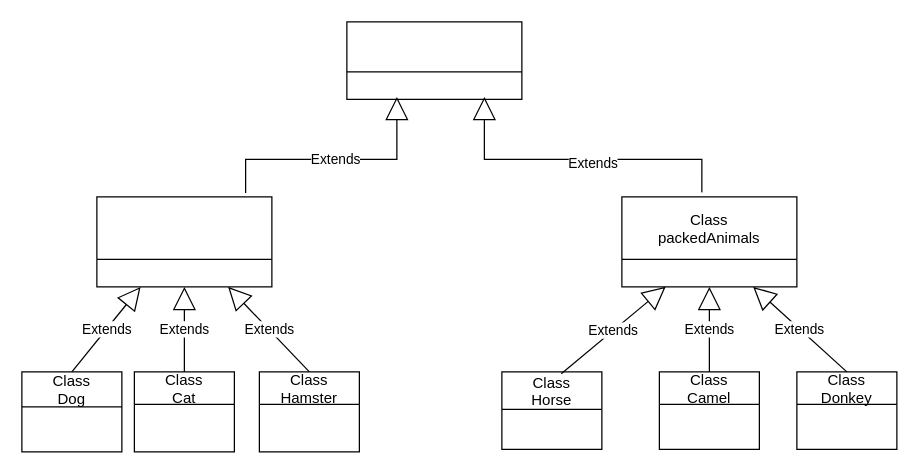
The diagram is 919 pixels wide and 474 high, and some of its shapes have lost their labels. Here are the shapes that lost their labels. From the top down, the box of each, then its label:
(346, 21, 522, 99): Class Animals
(96, 196, 272, 287): Class petAnimals
